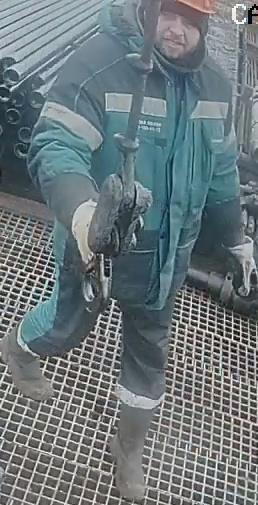gloves: (60, 192, 101, 264), (220, 230, 258, 302)
helmet: (157, 0, 217, 25)
vest: (44, 28, 238, 309)
